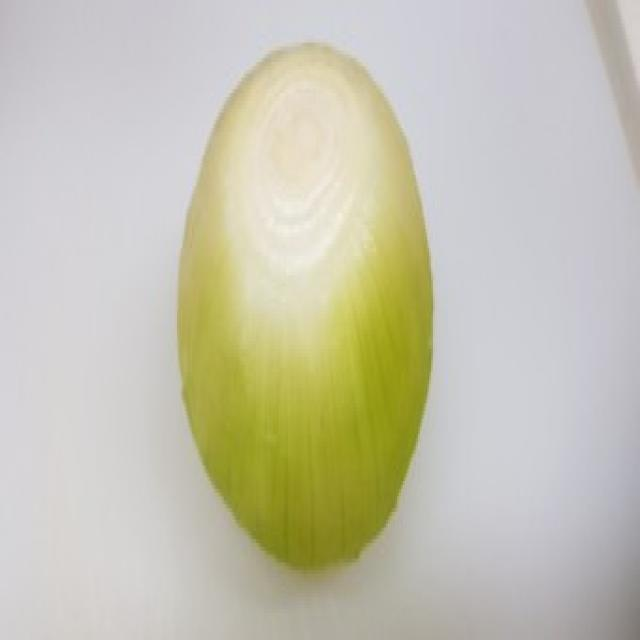onion: (162, 33, 440, 581)
